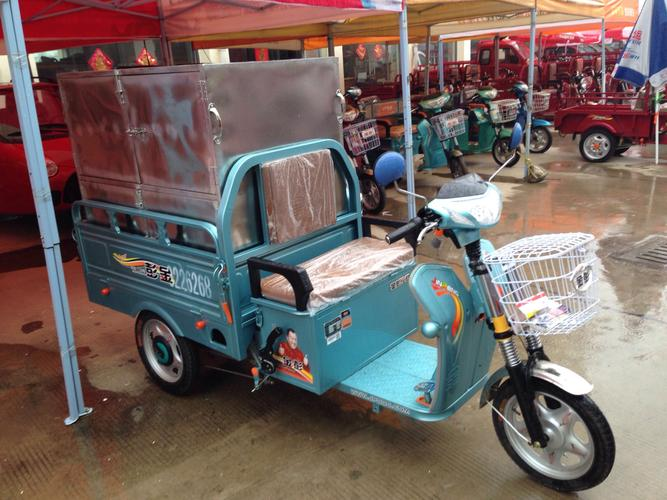empty: (48, 50, 633, 499)
